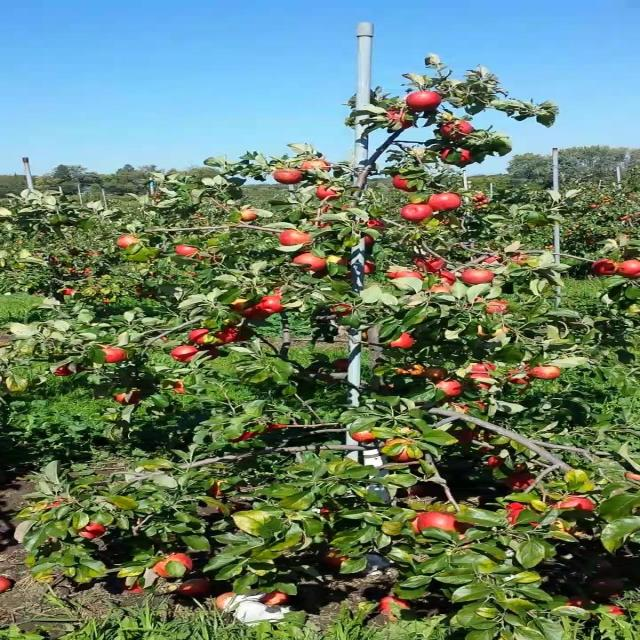apple: (412, 512, 475, 536), (156, 556, 194, 579), (404, 92, 443, 112), (383, 440, 416, 463), (440, 120, 476, 140), (511, 504, 540, 528), (554, 496, 597, 512), (440, 148, 475, 166), (461, 268, 498, 285), (412, 256, 448, 273), (77, 520, 107, 540), (433, 192, 462, 212), (291, 256, 327, 272), (177, 580, 213, 596), (390, 108, 416, 130), (433, 380, 464, 398), (404, 204, 434, 222), (511, 472, 537, 492), (276, 168, 306, 185), (504, 368, 533, 385), (589, 260, 619, 276), (390, 176, 420, 192), (284, 232, 313, 248), (220, 328, 249, 344), (262, 592, 292, 607), (390, 332, 418, 348), (170, 348, 199, 363), (618, 260, 639, 280), (241, 308, 272, 321), (262, 296, 284, 314), (476, 328, 512, 339), (461, 400, 489, 414), (468, 192, 491, 209), (397, 364, 427, 377), (362, 220, 388, 235), (454, 428, 478, 444), (191, 328, 213, 345), (205, 484, 231, 498), (532, 368, 562, 380), (106, 348, 128, 364), (227, 432, 256, 444), (305, 160, 334, 172), (468, 376, 494, 389), (490, 300, 512, 315), (42, 500, 69, 512), (426, 368, 450, 381), (326, 256, 354, 267), (468, 364, 498, 374), (390, 272, 427, 280), (511, 252, 532, 266), (120, 392, 142, 405), (177, 244, 199, 257), (333, 304, 356, 316), (120, 236, 142, 248), (355, 432, 377, 444), (319, 188, 340, 200), (440, 272, 459, 285), (56, 364, 76, 376), (241, 208, 258, 222), (234, 300, 252, 313), (319, 204, 338, 216), (333, 360, 350, 372), (205, 348, 222, 360), (483, 256, 505, 265), (433, 284, 455, 293), (490, 456, 505, 468), (177, 380, 187, 396), (269, 424, 288, 432), (362, 236, 377, 245), (319, 220, 334, 229), (625, 472, 638, 482), (476, 448, 494, 453), (369, 264, 377, 273)
